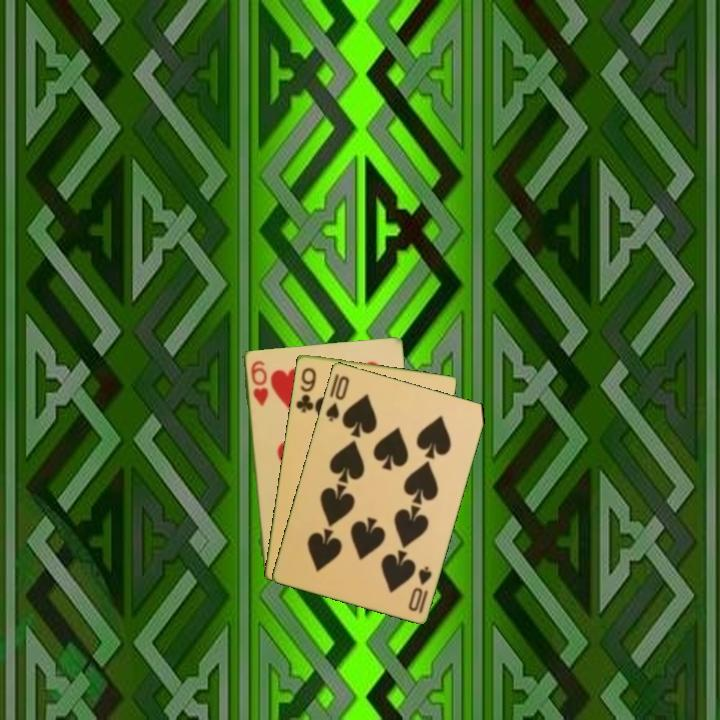10s: (405, 562, 435, 616), (322, 372, 352, 424)
6h: (247, 357, 271, 409)
9c: (292, 364, 319, 415)
